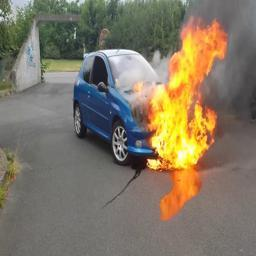fire: (135, 17, 229, 169)
